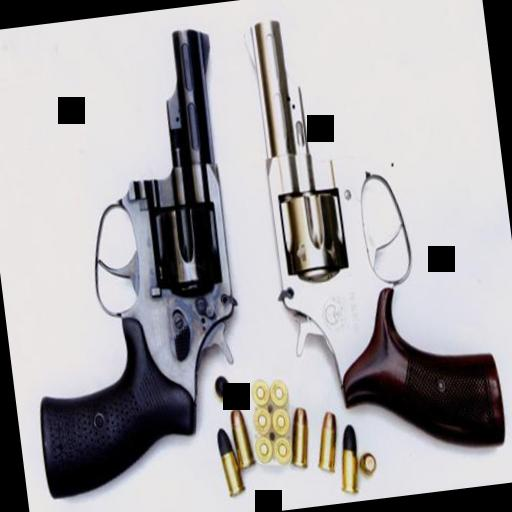Handgun: (238, 0, 508, 473), (0, 24, 263, 501)
